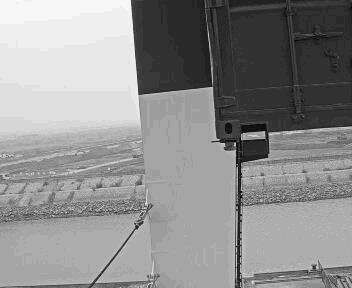twist_lock_1: (215, 128, 241, 151)
